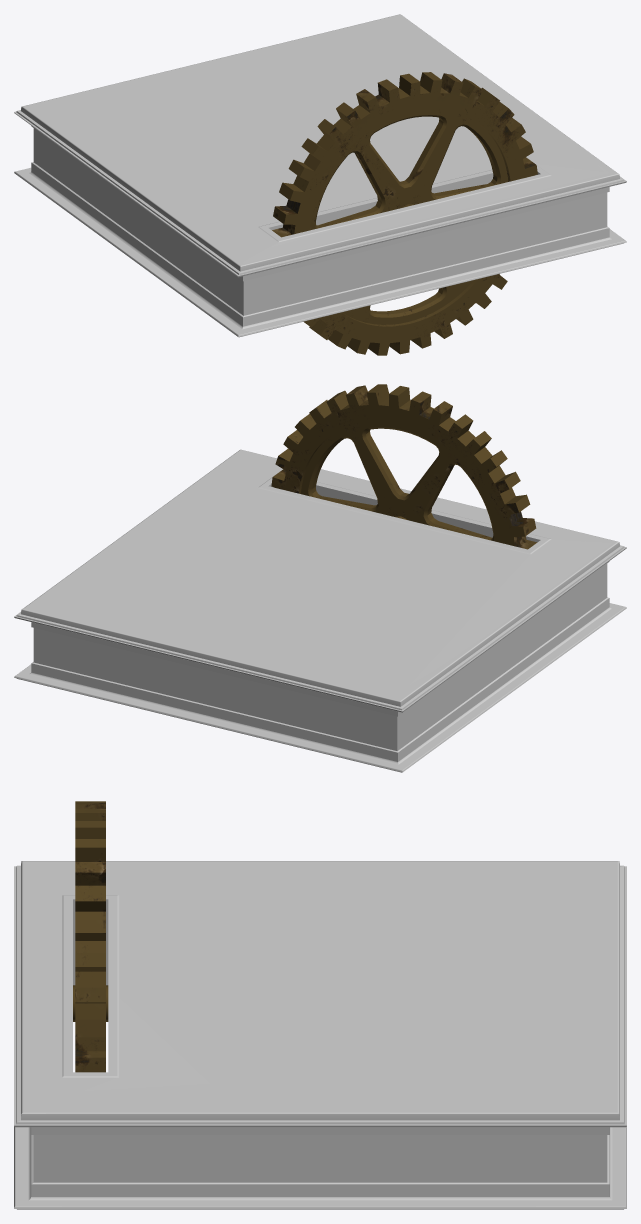
File: PlatformLargeOscY.fbx
3 views of the same model, one above another, from view 1: azimuth 30°, elevation 25°; view 2: azimuth 150°, elevation 25°; view 3: azimuth 270°, elevation 25° (orthographic). The views are drawn at different scales.
Parts seen in each view (by area): view 1: PlatformLargeOscY, GearLarge; view 2: PlatformLargeOscY, GearLarge; view 3: PlatformLargeOscY, GearLarge.
Part boxes in pixels (left/top/right/bottom): PlatformLargeOscY: left=14, top=14, right=626, bottom=337; GearLarge: left=272, top=72, right=537, bottom=355; PlatformLargeOscY: left=14, top=449, right=626, bottom=772; GearLarge: left=271, top=384, right=537, bottom=549; PlatformLargeOscY: left=14, top=861, right=626, bottom=1209; GearLarge: left=73, top=801, right=108, bottom=1072.
Size of what is drawn, in the model's own units: 500 by 330 by 500.
